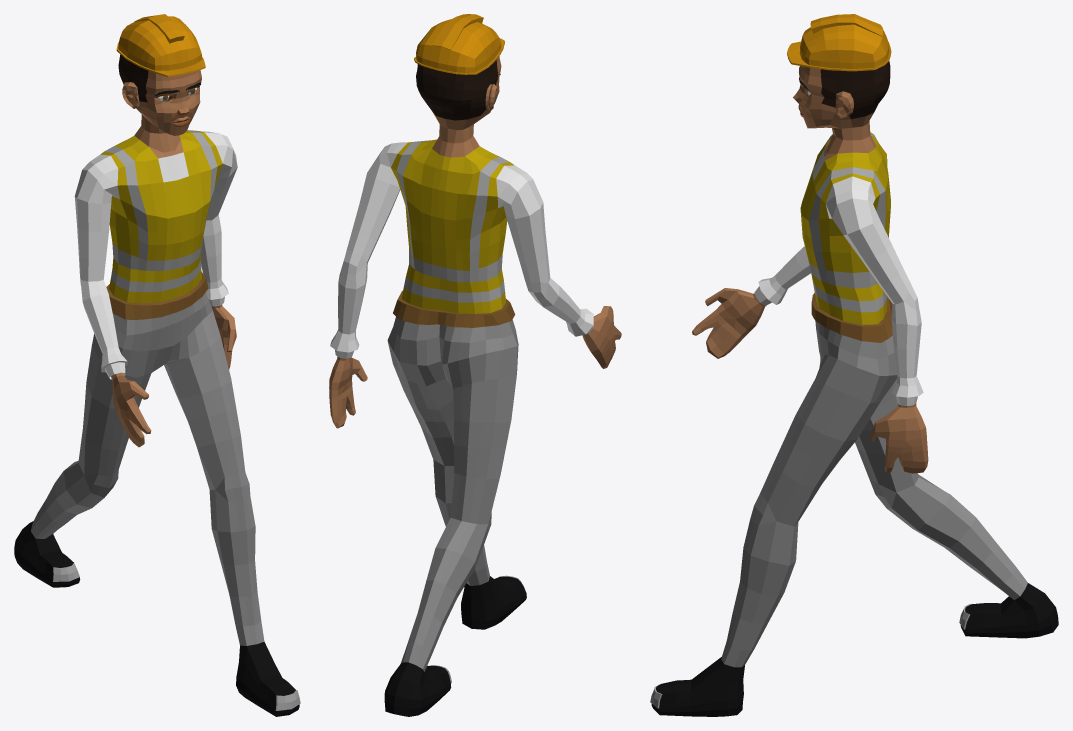
Rendered from Engineer_Walk.fbx.
3 renders of one model, left to right at view 1: azimuth 30°, elevation 25°; view 2: azimuth 150°, elevation 25°; view 3: azimuth 270°, elevation 25°, orthographic. The views are drawn at different scales.
Visible parts, largest first — view 1: Engineer_Walk; view 2: Engineer_Walk; view 3: Engineer_Walk.
Boxes of the visible parts, x1=… form: Engineer_Walk: x1=14, y1=14, x2=300, y2=716; Engineer_Walk: x1=329, y1=14, x2=621, y2=716; Engineer_Walk: x1=650, y1=14, x2=1058, y2=716.
Bounding box in the file's own units: 0.3284 × 1.05 × 0.578.
